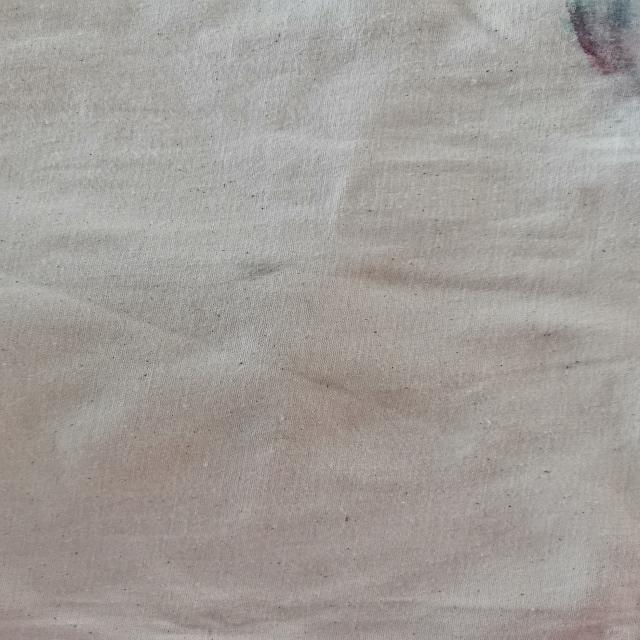taaaches: (554, 2, 640, 82), (229, 254, 308, 296)
